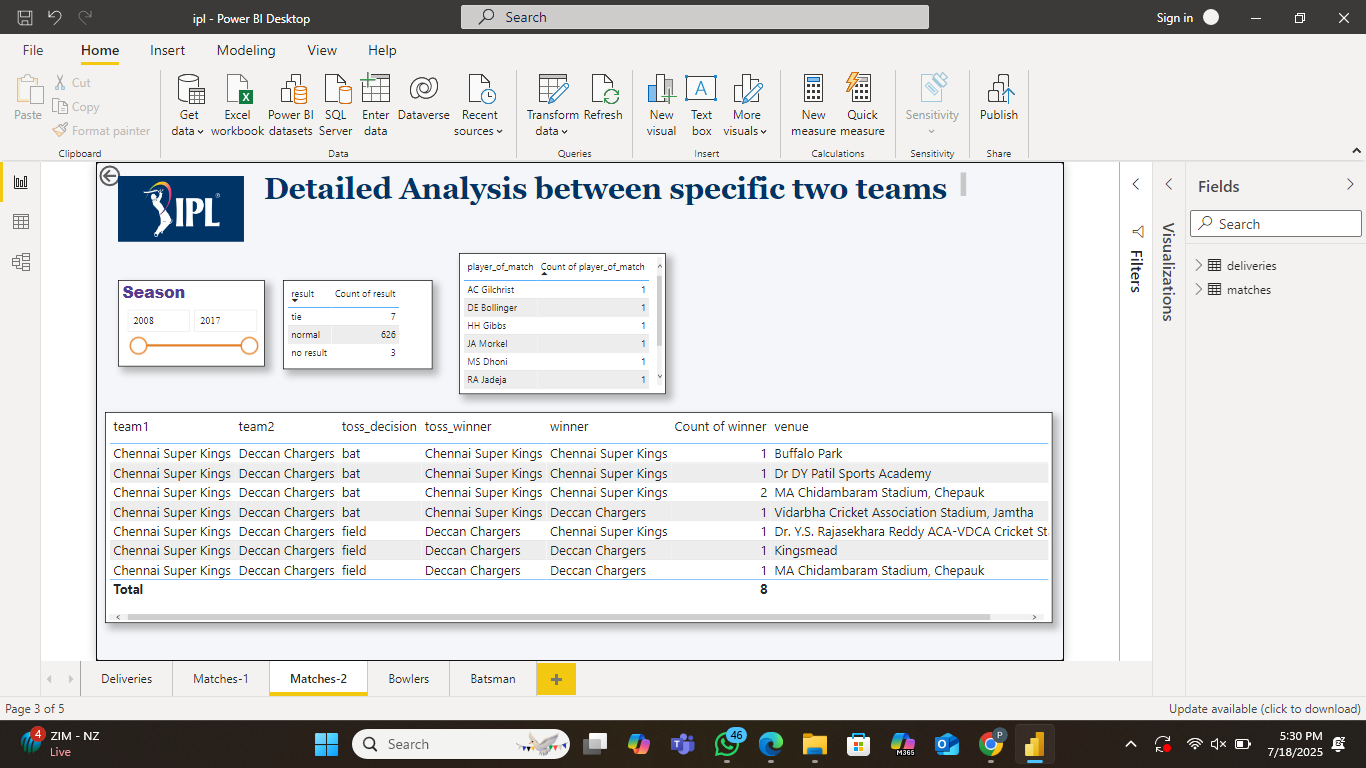

This screenshot's page, from the dashboard's own definition file:
{"tool":"powerbi","page":{"name":"Matches-2","canvas":[1398,721],"ordinal":2},"visuals":[{"type":"actionButton","box":[0,0,100,40],"z":0},{"type":"image","box":[31.6,19.5,181.9,94.7],"z":1000},{"type":"slicer","title":"Season","fields":{"Values":["matches.season"]},"box":[31.6,169.9,212,124.8],"z":2000},{"type":"textbox","box":[228.5,10.5,1034.2,51.1],"z":3000},{"type":"tableEx","fields":{"Values":["matches.result","matches.result"]},"box":[270.6,169.9,216.5,129.3],"z":4000},{"type":"tableEx","fields":{"Values":["matches.team1","matches.team2","matches.toss_decision","matches.toss_winner","matches.winner","matches.winner","matches.venue"]},"box":[13.5,360.8,1369.4,305.2],"z":5000},{"type":"tableEx","fields":{"Values":["matches.player_of_match","matches.player_of_match"]},"box":[524.6,130.8,299.1,204.4],"z":6000}]}

Visuals, with their boxes on the page's 1398x721 design canvas (x1, y1, x2, y2). These are canvas units, not pixel positions in the 1366x768 screenshot, which may show the page scaled, cropped or inside an application window:
actionButton: [left=0, top=0, right=100, bottom=40]
image: [left=32, top=20, right=214, bottom=114]
"Season" slicer: [left=32, top=170, right=244, bottom=295]
textbox: [left=228, top=10, right=1263, bottom=62]
tableEx - matches.result x matches.result: [left=271, top=170, right=487, bottom=299]
tableEx - matches.team1 x matches.team2: [left=14, top=361, right=1383, bottom=666]
tableEx - matches.player_of_match x matches.player_of_match: [left=525, top=131, right=824, bottom=335]
